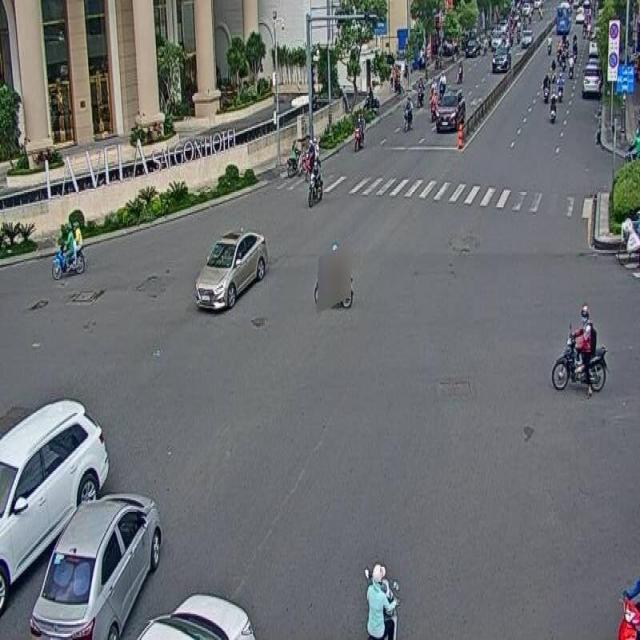car: (0, 394, 108, 612), (27, 489, 162, 640), (195, 228, 267, 316)
motorcycle: (551, 300, 606, 393), (313, 246, 352, 306), (54, 216, 85, 282), (308, 157, 322, 207)
